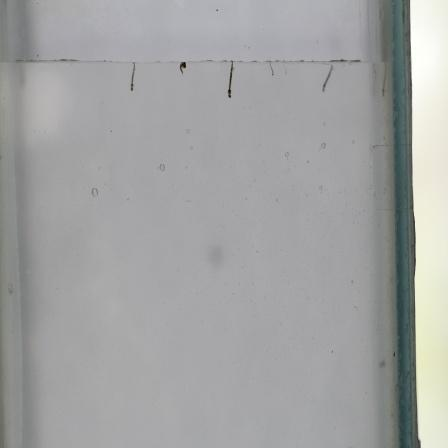Jentik-Nyamuk: (319, 63, 335, 94), (225, 62, 237, 99), (126, 60, 139, 94), (177, 59, 188, 75)
